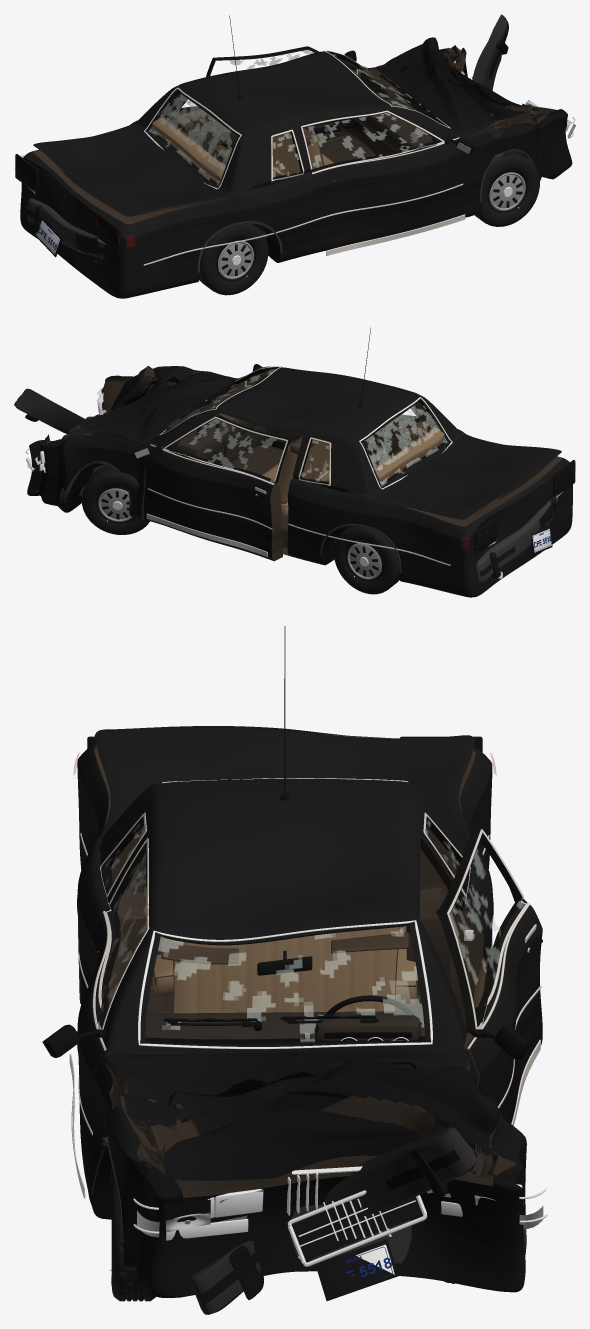
The model's file is coupe84_front_d2.glb.
3 views of the same model, one above another, from view 1: azimuth 30°, elevation 25°; view 2: azimuth 150°, elevation 25°; view 3: azimuth 270°, elevation 25° (orthographic). The views are drawn at different scales.
Parts seen in each view (by area): view 1: Body, Door_FR, Trunk, Interior, Hood, Glass, Wheel_RR_mesh, Wheel_FR_mesh, Trim_FR, Ends, Trim, Bumper_R (+4 smaller); view 2: Body, Door_FL, Trunk, Interior, Hood, Wheel_RL_mesh, Glass, Wheel_FL_mesh, Trim_FL, Ends, Bumper_R, Trim (+3 smaller); view 3: Body, Hood, Interior, Trunk, Ends, Door_FL, Bumper_F, Glass, Door_FR, Trim_FL, Trim, Trim_FR (+4 smaller).
Boxes of the visible parts, bbox=[...] form: Body: bbox=[20, 45, 572, 298]; Door_FR: bbox=[300, 110, 468, 252]; Trunk: bbox=[33, 123, 228, 216]; Interior: bbox=[152, 68, 437, 183]; Hood: bbox=[371, 37, 543, 139]; Glass: bbox=[144, 50, 450, 189]; Wheel_RR_mesh: bbox=[199, 223, 268, 295]; Wheel_FR_mesh: bbox=[474, 152, 539, 226]; Trim_FR: bbox=[301, 110, 474, 255]; Ends: bbox=[15, 46, 575, 257]; Trim: bbox=[143, 15, 534, 272]; Bumper_R: bbox=[26, 198, 107, 264]; Body: bbox=[27, 366, 572, 597]; Door_FL: bbox=[143, 415, 290, 561]; Trunk: bbox=[372, 433, 561, 519]; Interior: bbox=[166, 386, 444, 516]; Hood: bbox=[61, 366, 235, 445]; Wheel_RL_mesh: bbox=[333, 526, 399, 594]; Glass: bbox=[159, 366, 452, 489]; Wheel_FL_mesh: bbox=[81, 465, 149, 534]; Trim_FL: bbox=[132, 416, 287, 557]; Ends: bbox=[25, 374, 575, 554]; Bumper_R: bbox=[476, 497, 561, 582]; Trim: bbox=[59, 327, 450, 572]; Body: bbox=[77, 743, 526, 1297]; Hood: bbox=[103, 1051, 502, 1181]; Interior: bbox=[145, 926, 425, 1040]; Trunk: bbox=[94, 726, 475, 835]; Ends: bbox=[87, 736, 547, 1300]; Door_FL: bbox=[436, 827, 542, 1123]; Bumper_F: bbox=[189, 1127, 477, 1314]; Glass: bbox=[103, 778, 464, 1049]; Door_FR: bbox=[77, 836, 150, 1191]; Trim_FL: bbox=[447, 829, 542, 1125]; Trim: bbox=[77, 626, 526, 1252]; Trim_FR: bbox=[42, 837, 149, 1198].
Size of the model in its own units: 4.87 by 2.16 by 2.2.
33 materials, 5 textured.
